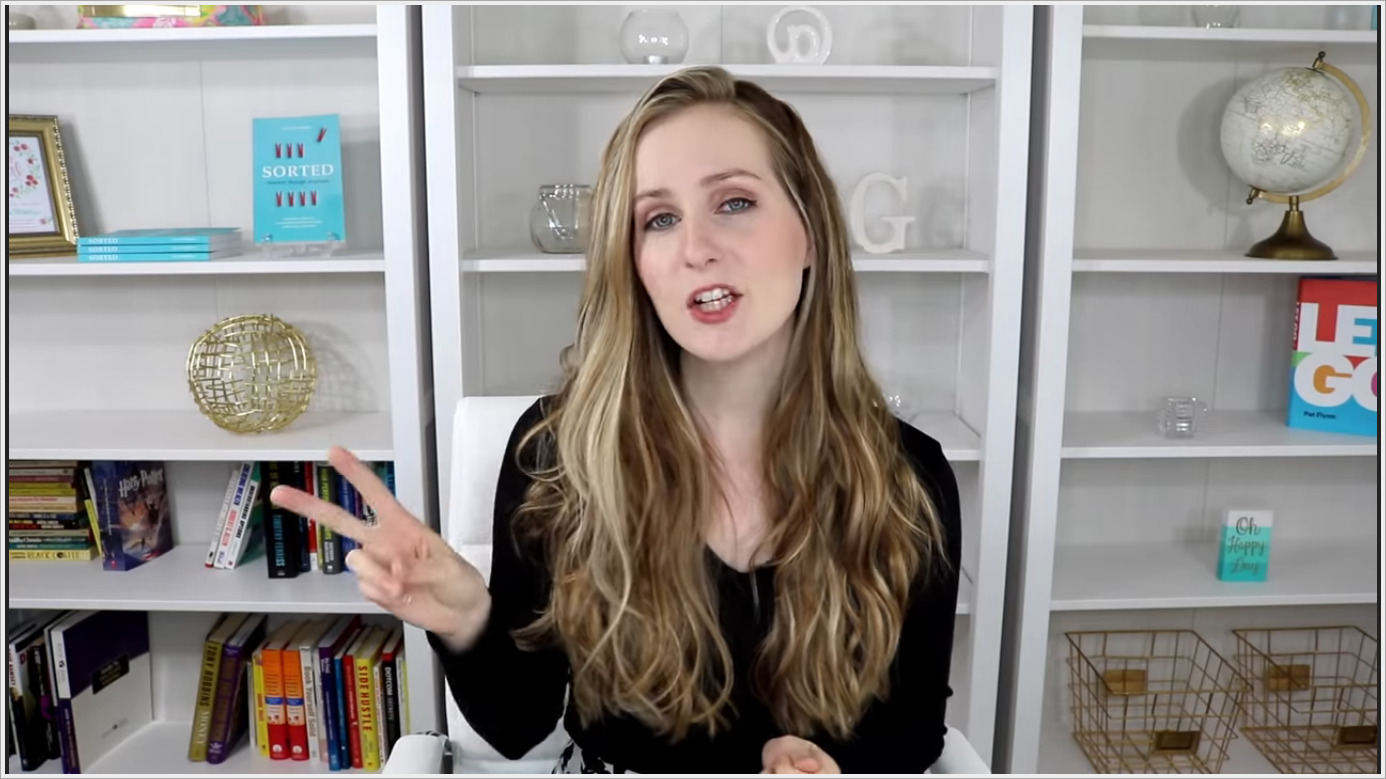hand: (265, 440, 491, 639), (760, 734, 844, 774)
